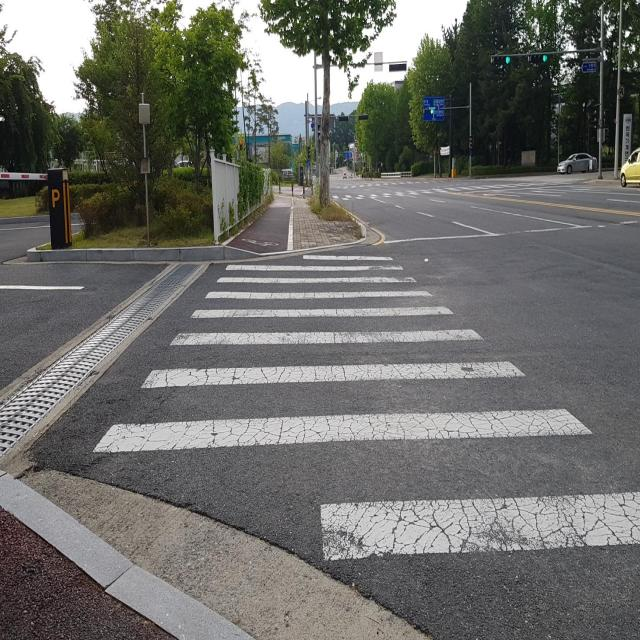횡단보도: (90, 248, 639, 568), (329, 186, 572, 201)
